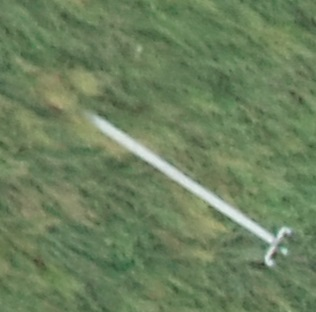opora: (90, 111, 296, 268)
